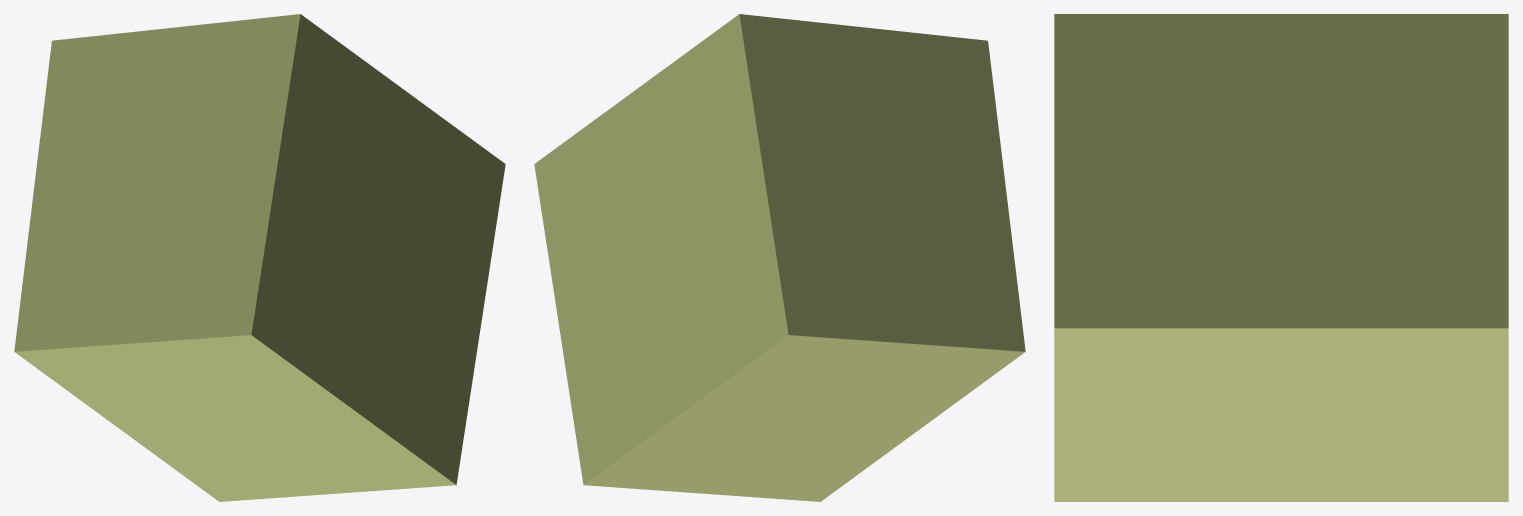
3 renders of one model, left to right at view 1: azimuth 30°, elevation 25°; view 2: azimuth 150°, elevation 25°; view 3: azimuth 270°, elevation 25°, orthographic. The views are drawn at different scales.
Visible parts, largest first — view 1: 0_2_3_3_3_0_2_0_1_2_3_0; view 2: 0_2_3_3_3_0_2_0_1_2_3_0; view 3: 0_2_3_3_3_0_2_0_1_2_3_0.
Part boxes in pixels (box(x1,y1,x2,y2)): 0_2_3_3_3_0_2_0_1_2_3_0: box(14, 14, 505, 501); 0_2_3_3_3_0_2_0_1_2_3_0: box(534, 14, 1025, 501); 0_2_3_3_3_0_2_0_1_2_3_0: box(1054, 14, 1508, 501).
Bounding box in the file's own units: 4.83 × 5.54 × 6.
